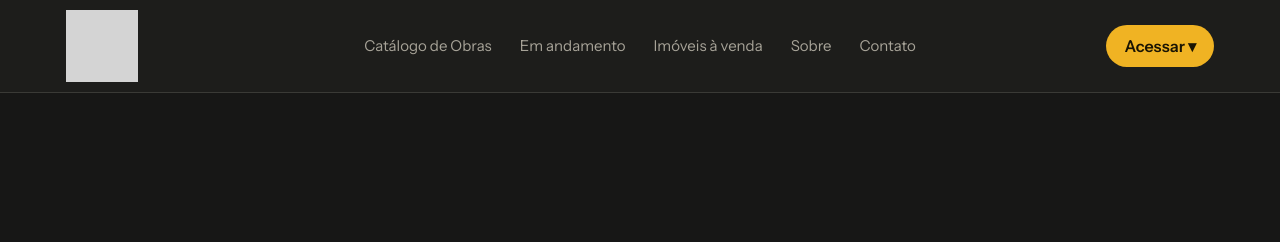
Header: menu Acessar › abre, liga aria-controls ao menu e fecha com Escape devolvendo o foco
Click the button "Acessar ▾".
click(1160, 46)  # box [1106,25,1214,67]
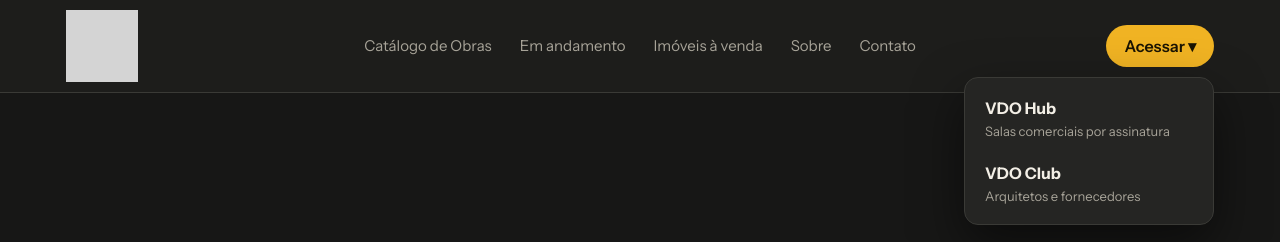
Press Escape
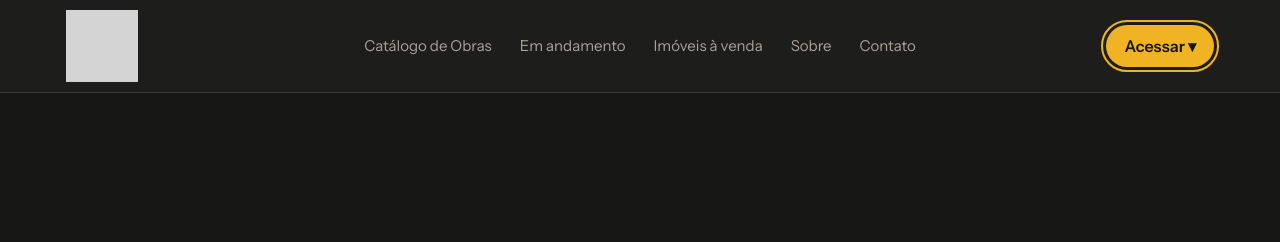
Expected: the button "Acessar ▾" is collapsed, [1106,25,1214,67]
